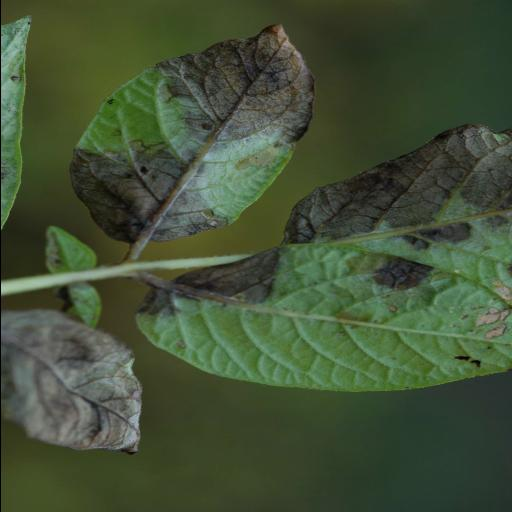Late Blight: (111, 122, 511, 392), (65, 24, 316, 246)
